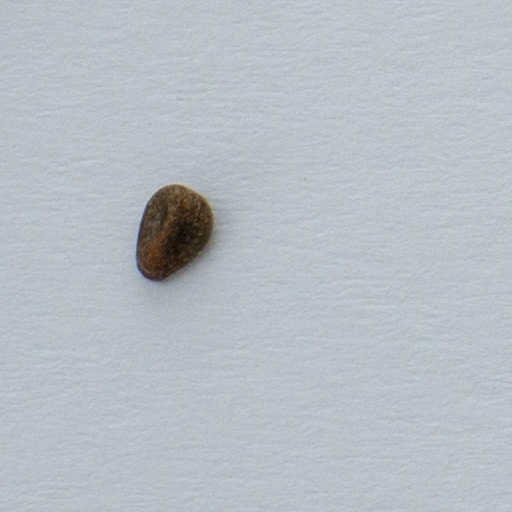Convolvulus: (132, 179, 211, 284)
